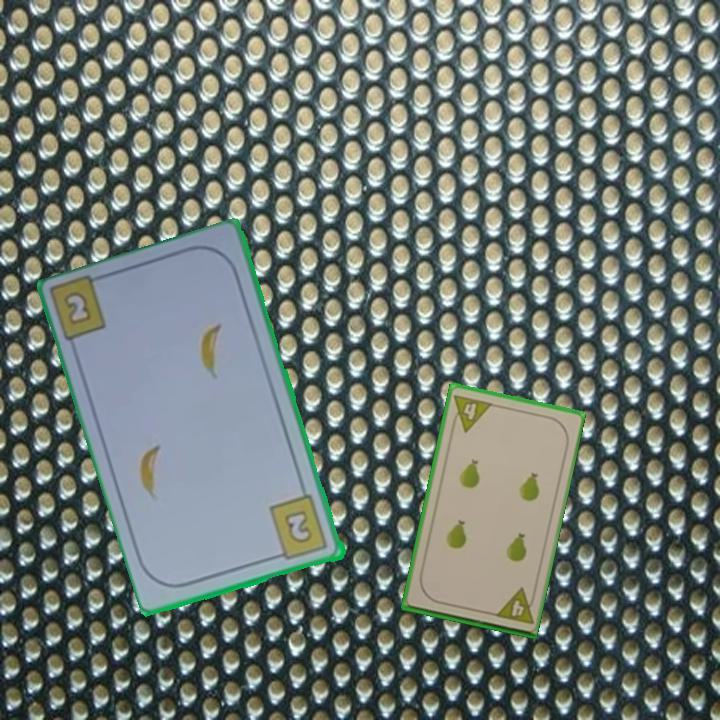2b: (266, 492, 331, 564), (63, 291, 92, 325)
4p: (447, 391, 495, 435), (491, 585, 539, 627)
